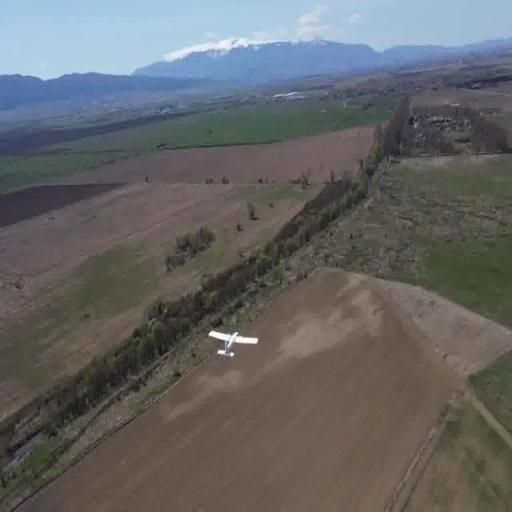uav: (208, 319, 264, 369)
